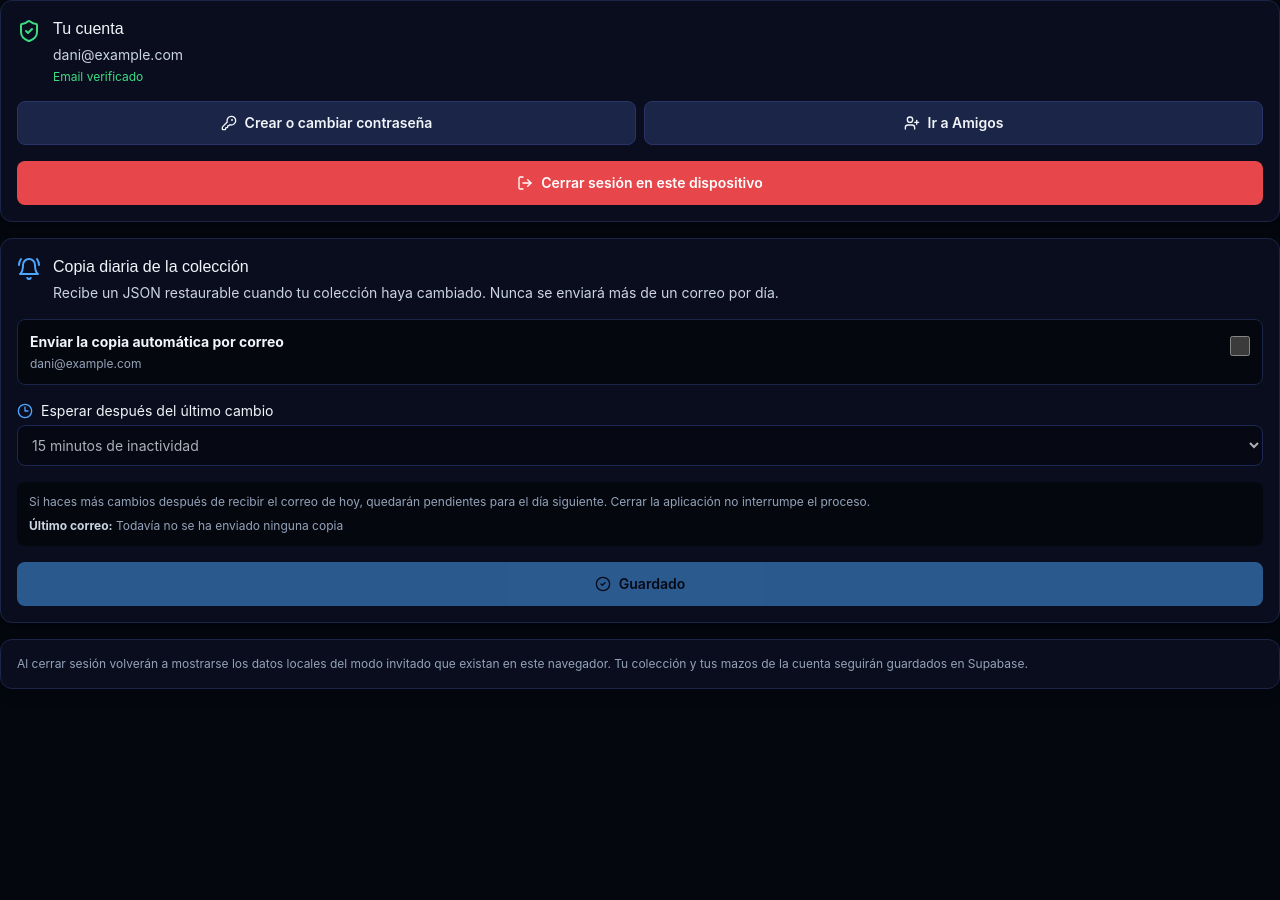
pantalla de cuenta › permite activar y configurar el correo diario desde Mi cuenta
Step 1. Click the checkbox labelled "Enviar la copia automática por correo" → (1240, 346), box [1230,336,1250,356]
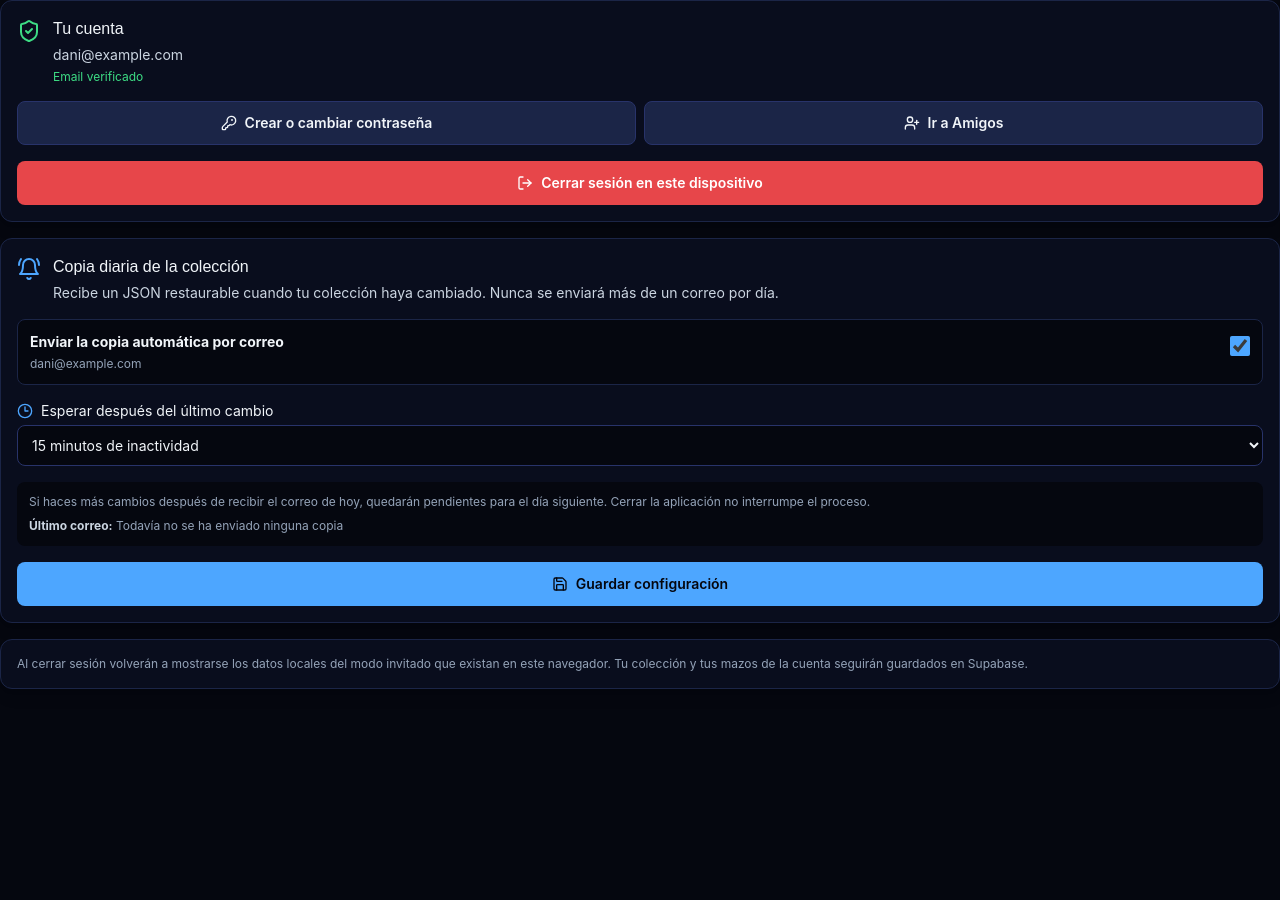
Step 2. Select "30 minutos de inactividad" in the dropdown labelled "Esperar después del último cambio" → (640, 446), box [17,425,1263,466]
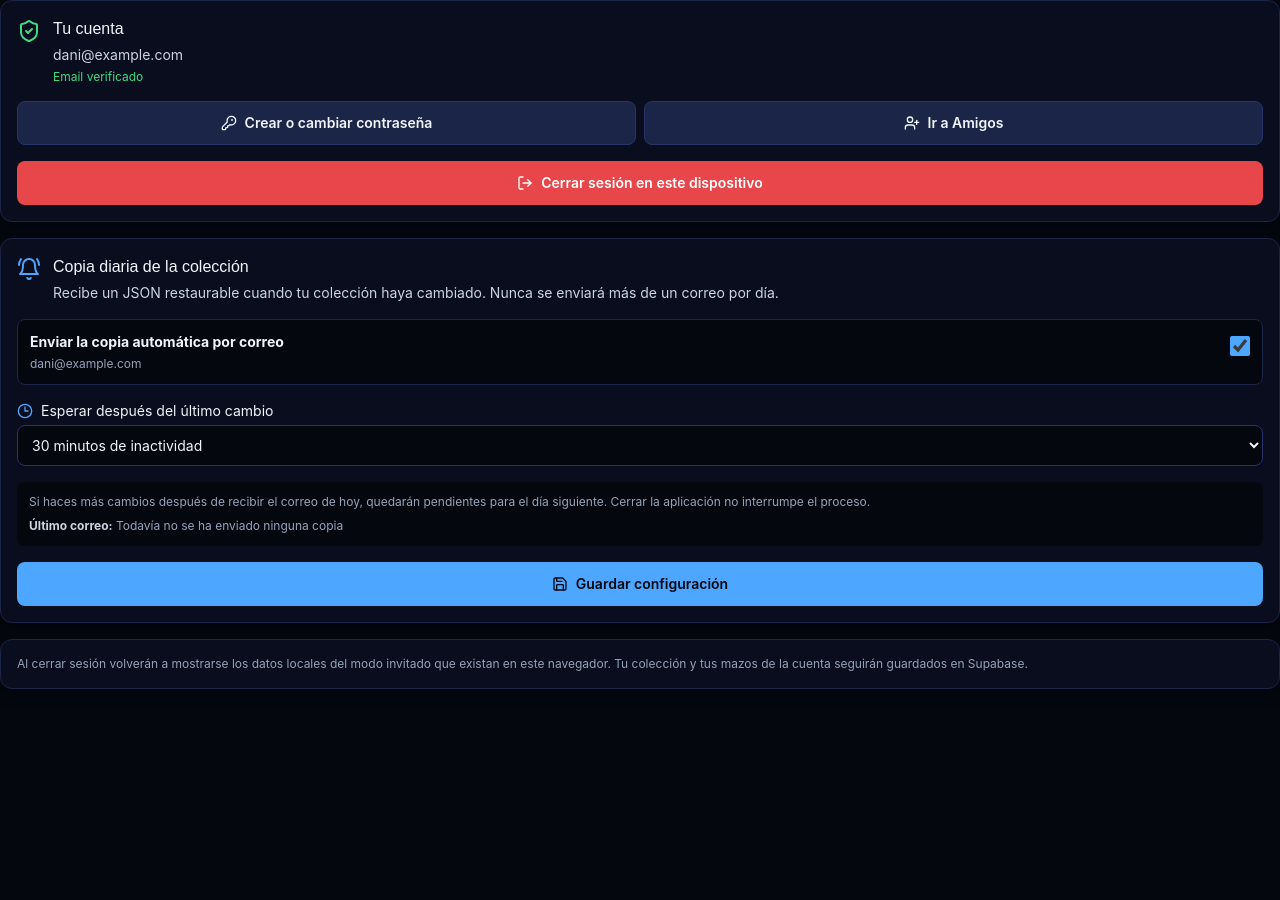
Step 3. Click the button "Guardar configuración" → (640, 584), box [17,562,1263,606]
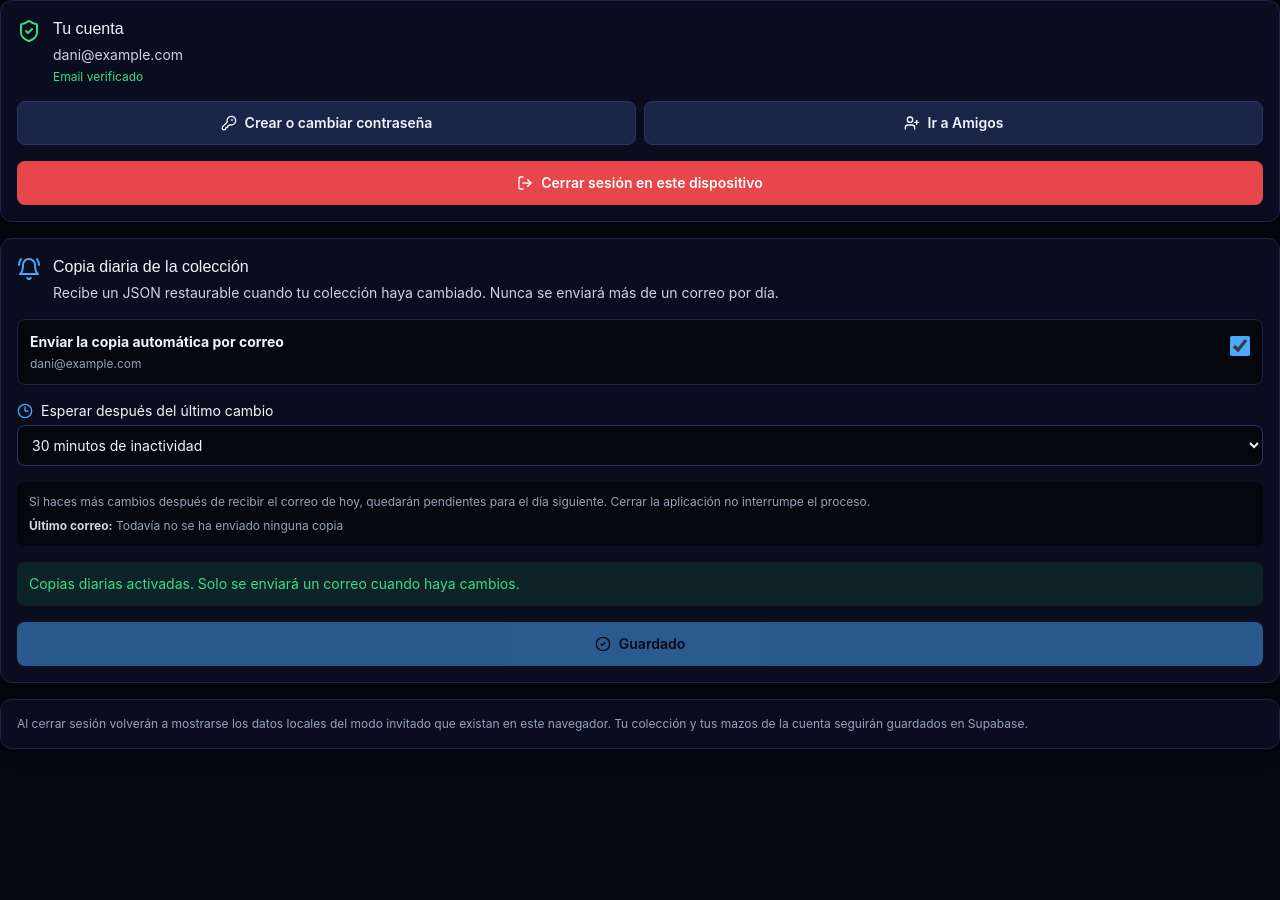
Expected: the message shows "Solo se enviará un correo", [29,575,520,592]
